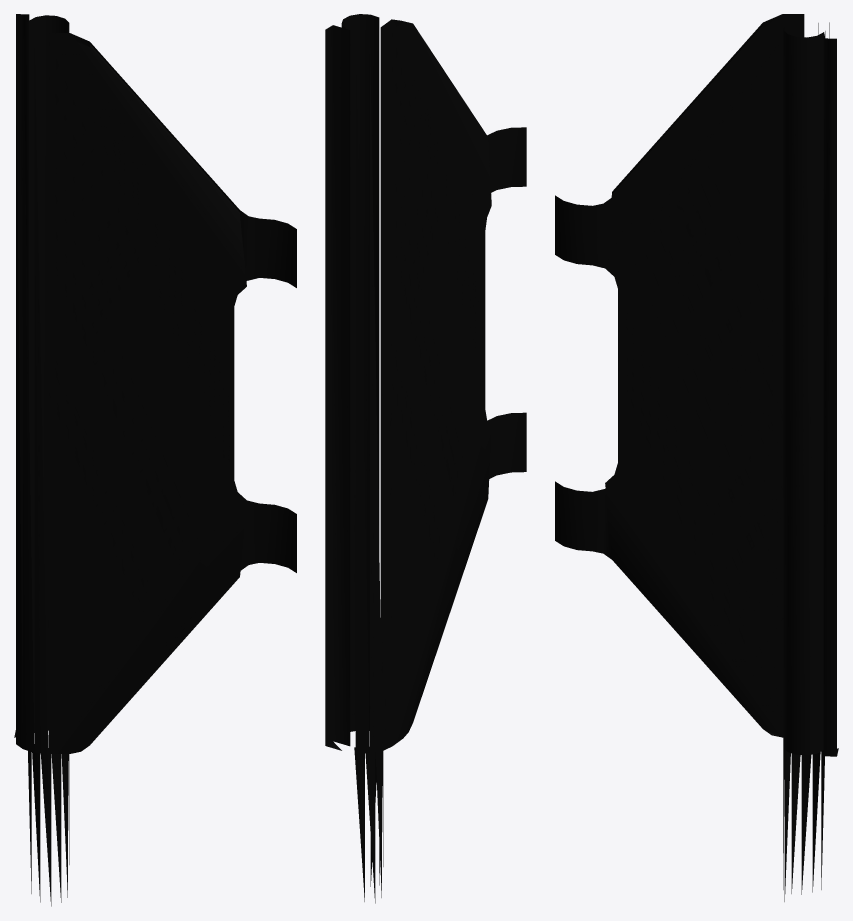
The picture shows the model from 3 angles, left to right: view 1: azimuth 90°, elevation 25°; view 2: azimuth 150°, elevation 25°; view 3: azimuth 270°, elevation 25°; orthographic projection.
Bounding box in the file's own units: 0.0166 × 0.2285 × 0.067.
